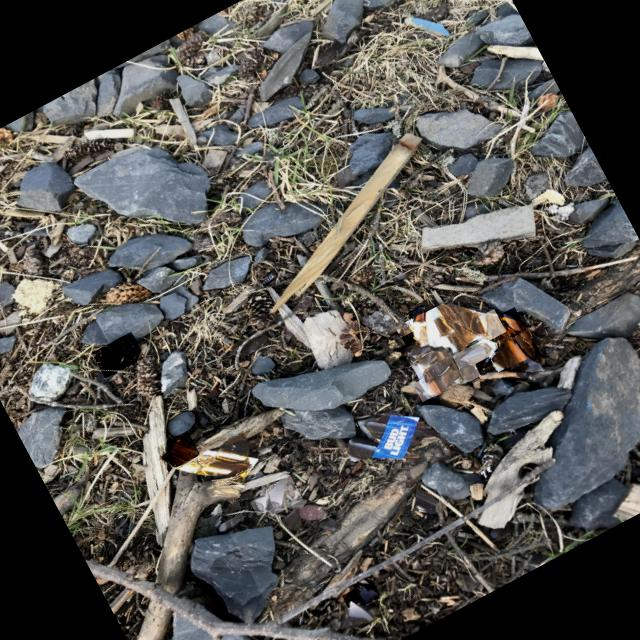Broken glass: (198, 414, 440, 512), (410, 345, 460, 393), (434, 303, 485, 350), (492, 336, 542, 371), (160, 433, 197, 466), (98, 340, 140, 369), (341, 599, 376, 629), (513, 328, 540, 362), (454, 342, 492, 366), (267, 474, 290, 513), (355, 579, 379, 604), (492, 316, 511, 342), (500, 313, 526, 331), (220, 513, 242, 530), (483, 314, 497, 339), (189, 454, 213, 468), (414, 380, 432, 398), (460, 364, 480, 380), (250, 496, 269, 511), (420, 326, 430, 346), (345, 588, 361, 600), (412, 306, 424, 321), (405, 327, 414, 345), (399, 322, 411, 335), (476, 357, 490, 368), (507, 325, 518, 336)
